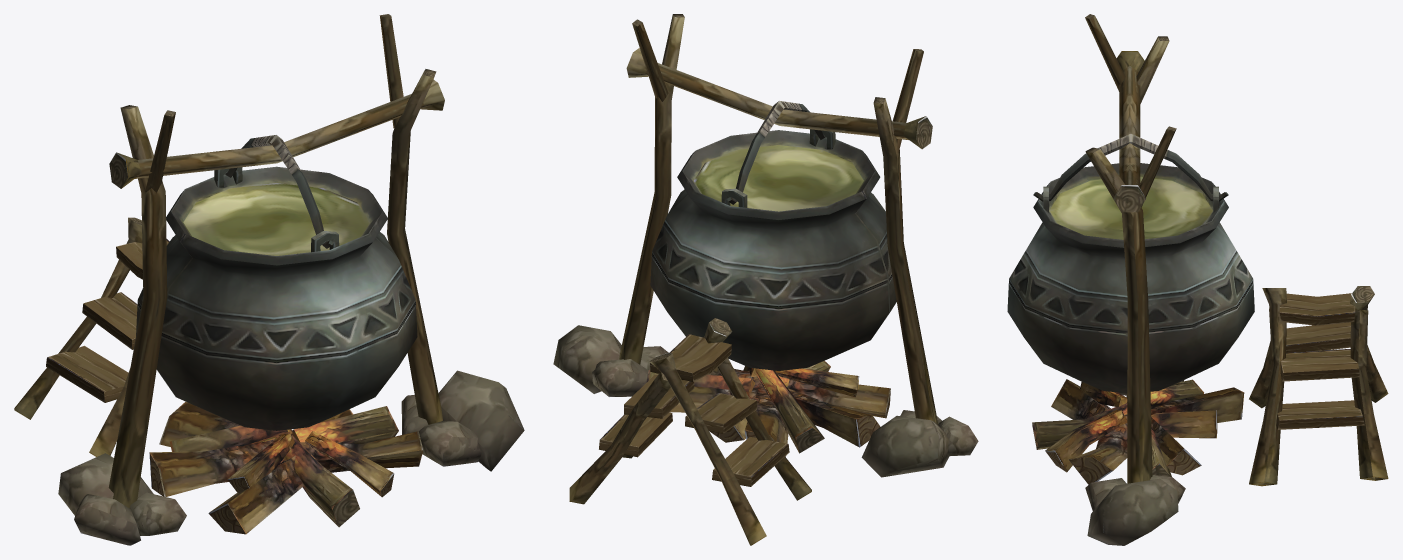
The model's file is Lv6_Bigpot_hero.FBX.
3 renders of one model, left to right at view 1: azimuth 30°, elevation 25°; view 2: azimuth 150°, elevation 25°; view 3: azimuth 270°, elevation 25°, orthographic. The views are drawn at different scales.
Parts seen in each view (by area): view 1: Lv6_Bigpot_hero; view 2: Lv6_Bigpot_hero; view 3: Lv6_Bigpot_hero.
Part boxes in pixels (x1=…): Lv6_Bigpot_hero: x1=14, y1=14, x2=524, y2=545; Lv6_Bigpot_hero: x1=553, y1=14, x2=978, y2=545; Lv6_Bigpot_hero: x1=1007, y1=14, x2=1388, y2=545.
Size of the model in its own units: 323 by 306 by 271.
